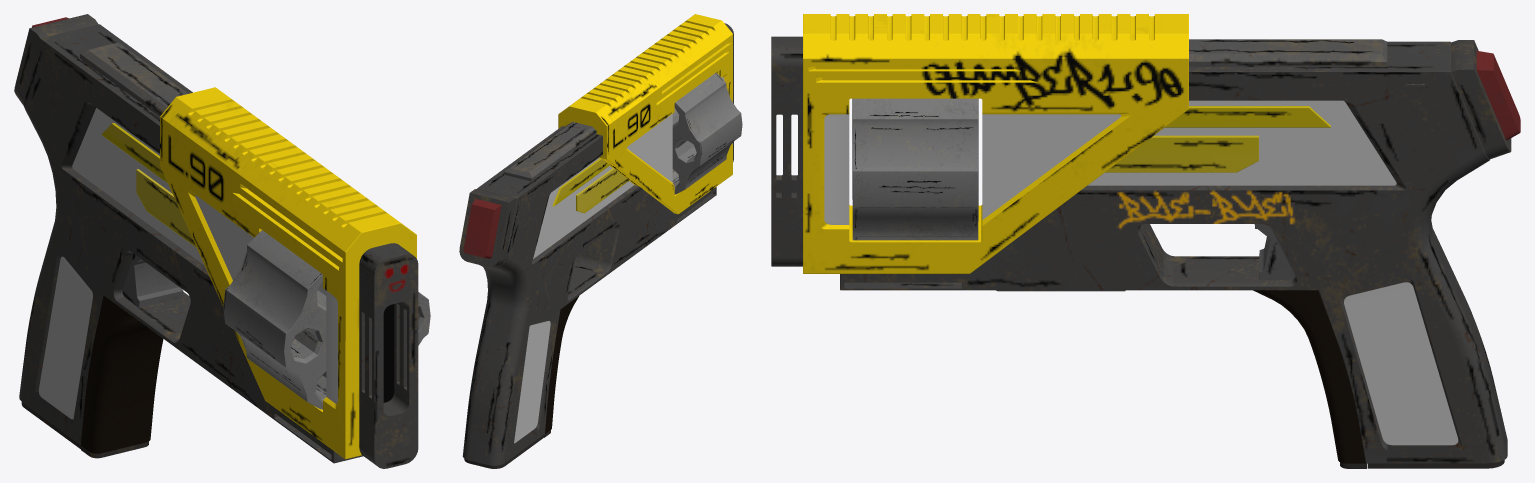
Rendered from Gun_Tesis_Pivot.fbx.
3 renders of one model, left to right at view 1: azimuth 30°, elevation 25°; view 2: azimuth 150°, elevation 25°; view 3: azimuth 270°, elevation 25°, orthographic. The views are drawn at different scales.
Visible parts, largest first — view 1: MAIN_BODY, REVOLVER_HOLD, BULLET_CHAMBER, FIRE_CANNON, HANDLE, TOP_ADDON, TRIGGER, LOOSE_4, LOOSE_3; view 2: MAIN_BODY, REVOLVER_HOLD, BULLET_CHAMBER, TOP_ADDON, LOOSE_4, HANDLE, LOOSE_3; view 3: MAIN_BODY, REVOLVER_HOLD, BULLET_CHAMBER, FIRE_CANNON, TOP_ADDON, HANDLE, LOOSE_2, LOOSE_1, TRIGGER, BASE_1.
Boxes of the visible parts, <box> form: MAIN_BODY: <box>14,14,363,463</box>; REVOLVER_HOLD: <box>160,87,416,459</box>; BULLET_CHAMBER: <box>223,230,430,409</box>; FIRE_CANNON: <box>359,243,418,468</box>; HANDLE: <box>81,295,163,453</box>; TOP_ADDON: <box>80,42,188,116</box>; TRIGGER: <box>122,254,183,307</box>; LOOSE_4: <box>136,169,196,247</box>; LOOSE_3: <box>101,123,167,183</box>; MAIN_BODY: <box>459,126,716,465</box>; REVOLVER_HOLD: <box>558,14,732,214</box>; BULLET_CHAMBER: <box>672,73,742,194</box>; TOP_ADDON: <box>504,122,596,181</box>; LOOSE_4: <box>576,168,629,213</box>; HANDLE: <box>545,296,578,433</box>; LOOSE_3: <box>552,158,609,206</box>; MAIN_BODY: <box>840,40,1520,463</box>; REVOLVER_HOLD: <box>803,14,1188,273</box>; BULLET_CHAMBER: <box>852,98,978,240</box>; FIRE_CANNON: <box>771,36,802,266</box>; TOP_ADDON: <box>1189,39,1387,66</box>; HANDLE: <box>1253,290,1365,463</box>; LOOSE_2: <box>1105,135,1258,172</box>; LOOSE_1: <box>1165,106,1330,127</box>; TRIGGER: <box>1254,224,1294,280</box>; BASE_1: <box>1367,460,1504,468</box>.
Bounding box in the file's own units: 86.03 × 231 × 365.
